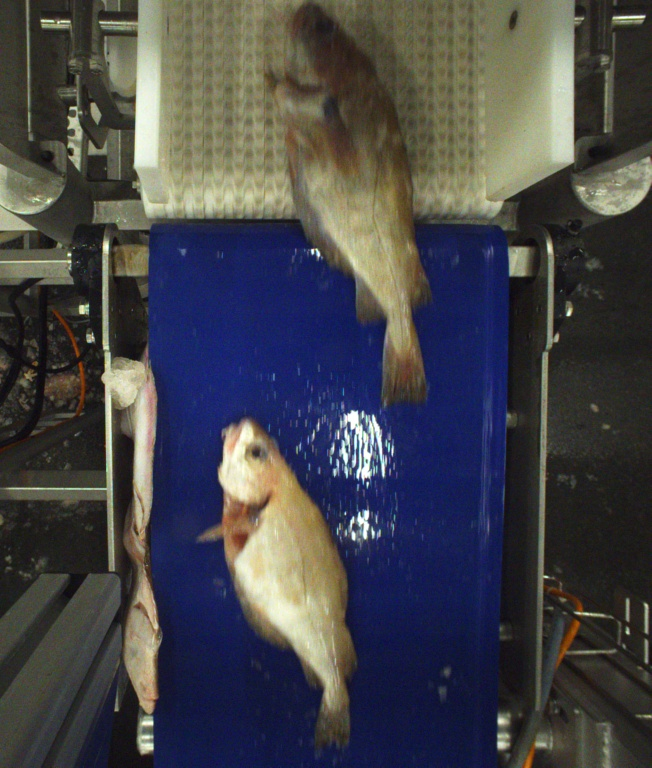BIB: (269, 1, 435, 405)
